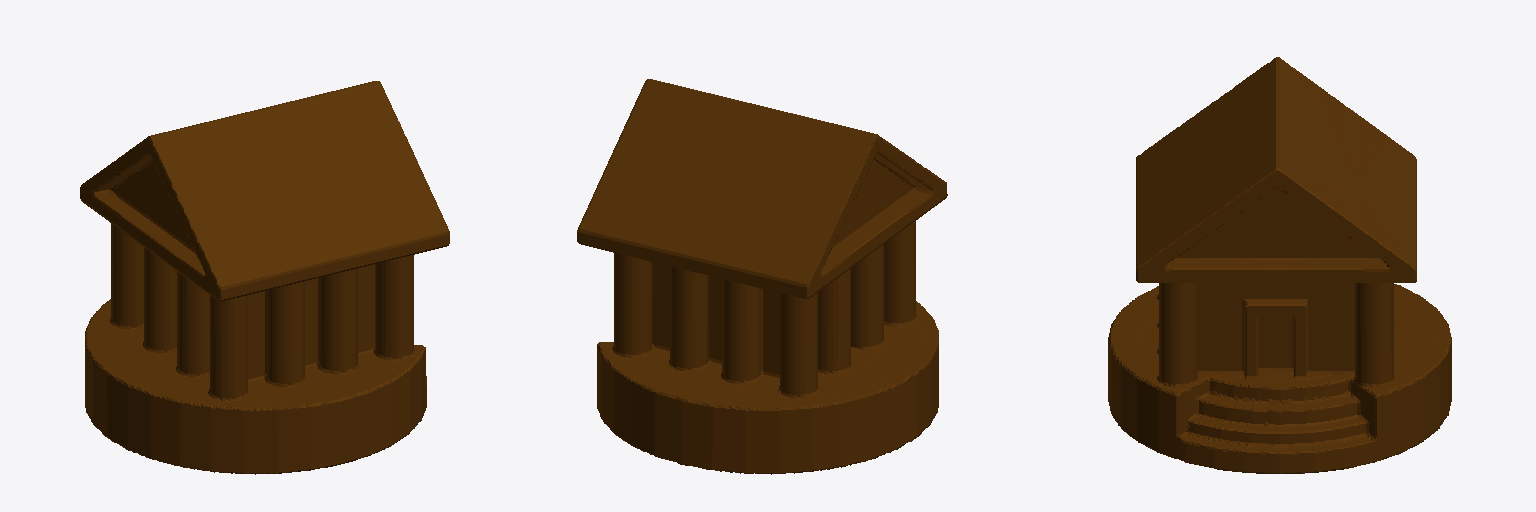
File: haus.obj
3 views of the same model, side by side, from view 1: azimuth 30°, elevation 25°; view 2: azimuth 150°, elevation 25°; view 3: azimuth 270°, elevation 25° (orthographic).
Parts seen in each view (by area): view 1: Catan_Player_Greek_Village_Mesh; view 2: Catan_Player_Greek_Village_Mesh; view 3: Catan_Player_Greek_Village_Mesh.
Boxes of the visible parts, x1,y1,x2,y2 form: Catan_Player_Greek_Village_Mesh: [80, 81, 449, 474]; Catan_Player_Greek_Village_Mesh: [577, 79, 947, 474]; Catan_Player_Greek_Village_Mesh: [1108, 57, 1451, 473].
Size of the model in its own units: 14.79 by 13.94 by 14.8.